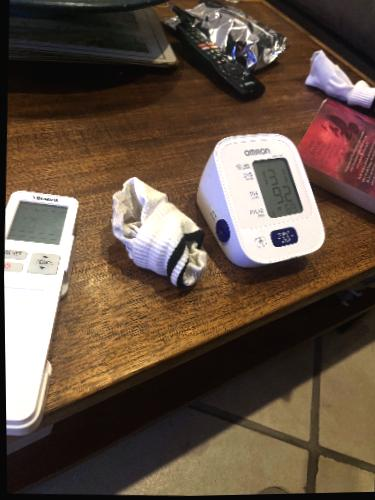bpm: (250, 150, 304, 222)
